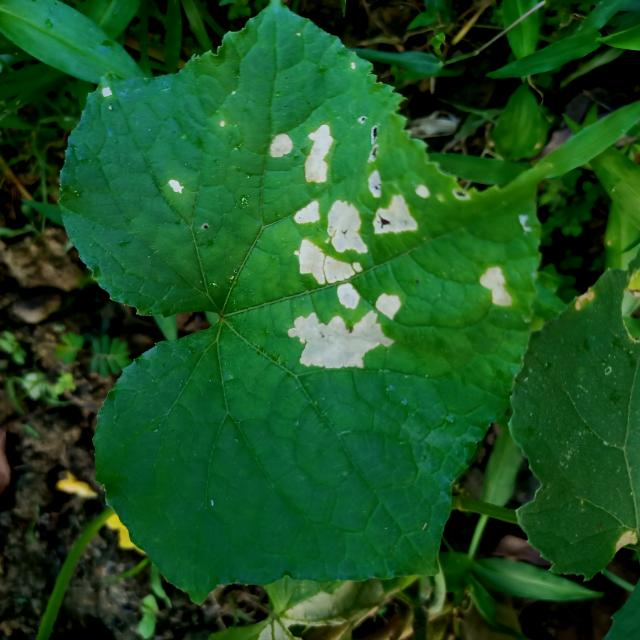disease_cucumber: (266, 111, 418, 373), (468, 250, 521, 316), (164, 167, 192, 199)
